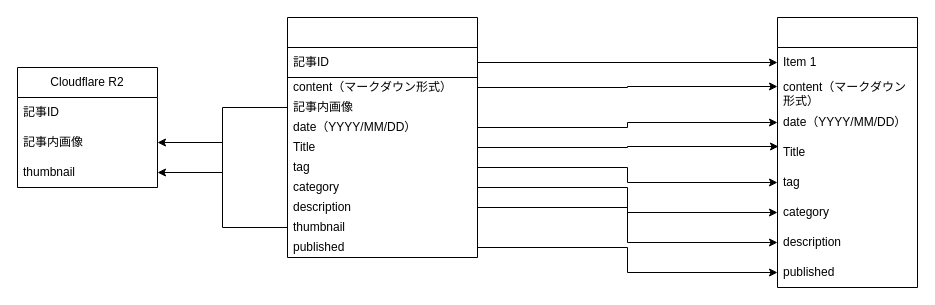
Image size: 935x305. Some labels were removed from this diagram. The shapes that lost their labels are listed below. From the top down, each one's box as (x1, y1, x2, y2) in pixels, then its label:
(286, 16, 478, 258): Notionデータベース
(776, 16, 918, 288): Firestore
